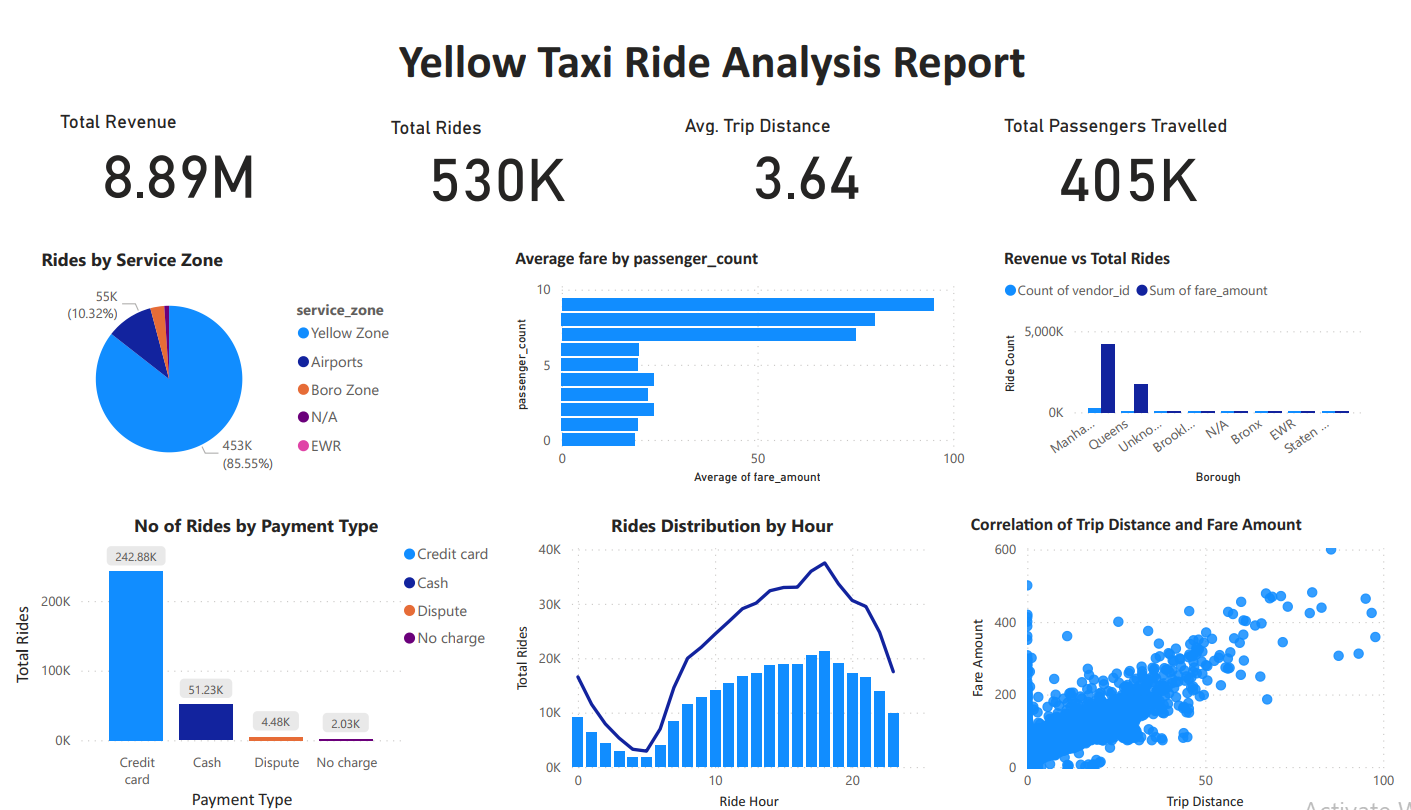

This screenshot's page, from the dashboard's own definition file:
{"tool":"powerbi","page":{"name":"Page 1","canvas":[1280,720],"ordinal":0},"visuals":[{"type":"columnChart","title":"No of Rides by Payment Type","fields":{"Category":["payment_type_dim.payment_type_name"],"Y":["CountNonNull(rides_fact.vendor_id)"],"Series":["payment_type_dim.payment_type_name"]},"box":[13,410,449,273],"z":0},{"type":"lineStackedColumnComboChart","title":"Rides Distribution by Hour","fields":{"Category":["datetime_dim.hour"],"Y":["CountNonNull(rides_fact.vendor_id)"],"Y2":["Sum(rides_fact.vendor_id)1"]},"box":[463,410,384,273],"z":1000},{"type":"textbox","box":[194,0,826,54],"z":2000},{"type":"scatterChart","title":"Correlation of Trip Distance and Fare Amount","fields":{"X":["rides_fact.trip_distance"],"Y":["rides_fact.total_amount"]},"box":[867,410,393,273],"z":3000},{"type":"pieChart","title":"Rides by Service Zone","fields":{"Category":["location_dim.service_zone"],"Y":["Sum(rides_fact.vendor_id)"]},"box":[25,174,338,219],"z":4000},{"type":"card","title":"Total Revenue","fields":{"Values":["Sum(rides_fact.total_amount)"]},"box":[42,76,225,87],"z":5000},{"type":"card","title":"Total Rides","fields":{"Values":["Sum(rides_fact.vendor_id)"]},"box":[303,80,201,83],"z":6000},{"type":"card","title":"Avg. Trip Distance","fields":{"Values":["Avg(rides_fact.trip_distance)"]},"box":[539,81,231,83],"z":7000},{"type":"card","title":"Total Passengers Travelled","fields":{"Values":["Sum(rides_fact.passenger_count)"]},"box":[797,77,235,87],"z":7001},{"type":"clusteredBarChart","title":"Average fare by passenger_count","fields":{"Category":["rides_fact.passenger_count"],"Y":["Avg(rides_fact.fare_amount)"]},"box":[462,174,416,219],"z":7002},{"type":"clusteredColumnChart","title":"Revenue vs Total Rides","fields":{"Category":["location_dim.borough"],"Y":["CountNonNull(rides_fact.vendor_id)","Sum(rides_fact.fare_amount)"]},"box":[896,174,334,219],"z":7003}]}

Visuals, with their boxes in screenshot pixels (x1, y1, x2, y2), scaled from the page's 1280x720 canvas onto the 1411x810 screenshot:
"No of Rides by Payment Type" columnChart: (14, 461, 509, 768)
"Rides Distribution by Hour" lineStackedColumnComboChart: (510, 461, 934, 768)
textbox: (214, 0, 1124, 61)
"Correlation of Trip Distance and Fare Amount" scatterChart: (956, 461, 1389, 768)
"Rides by Service Zone" pieChart: (28, 196, 400, 442)
"Total Revenue" card: (46, 86, 294, 183)
"Total Rides" card: (334, 90, 556, 183)
"Avg. Trip Distance" card: (594, 91, 849, 184)
"Total Passengers Travelled" card: (879, 87, 1138, 184)
"Average fare by passenger_count" clusteredBarChart: (509, 196, 968, 442)
"Revenue vs Total Rides" clusteredColumnChart: (988, 196, 1356, 442)
